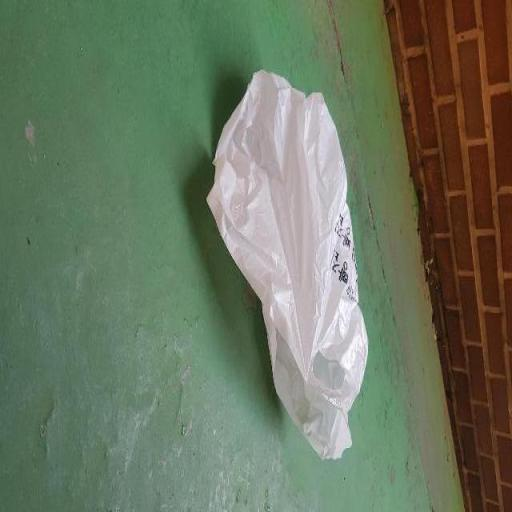plastic-bag: (204, 68, 370, 461)
